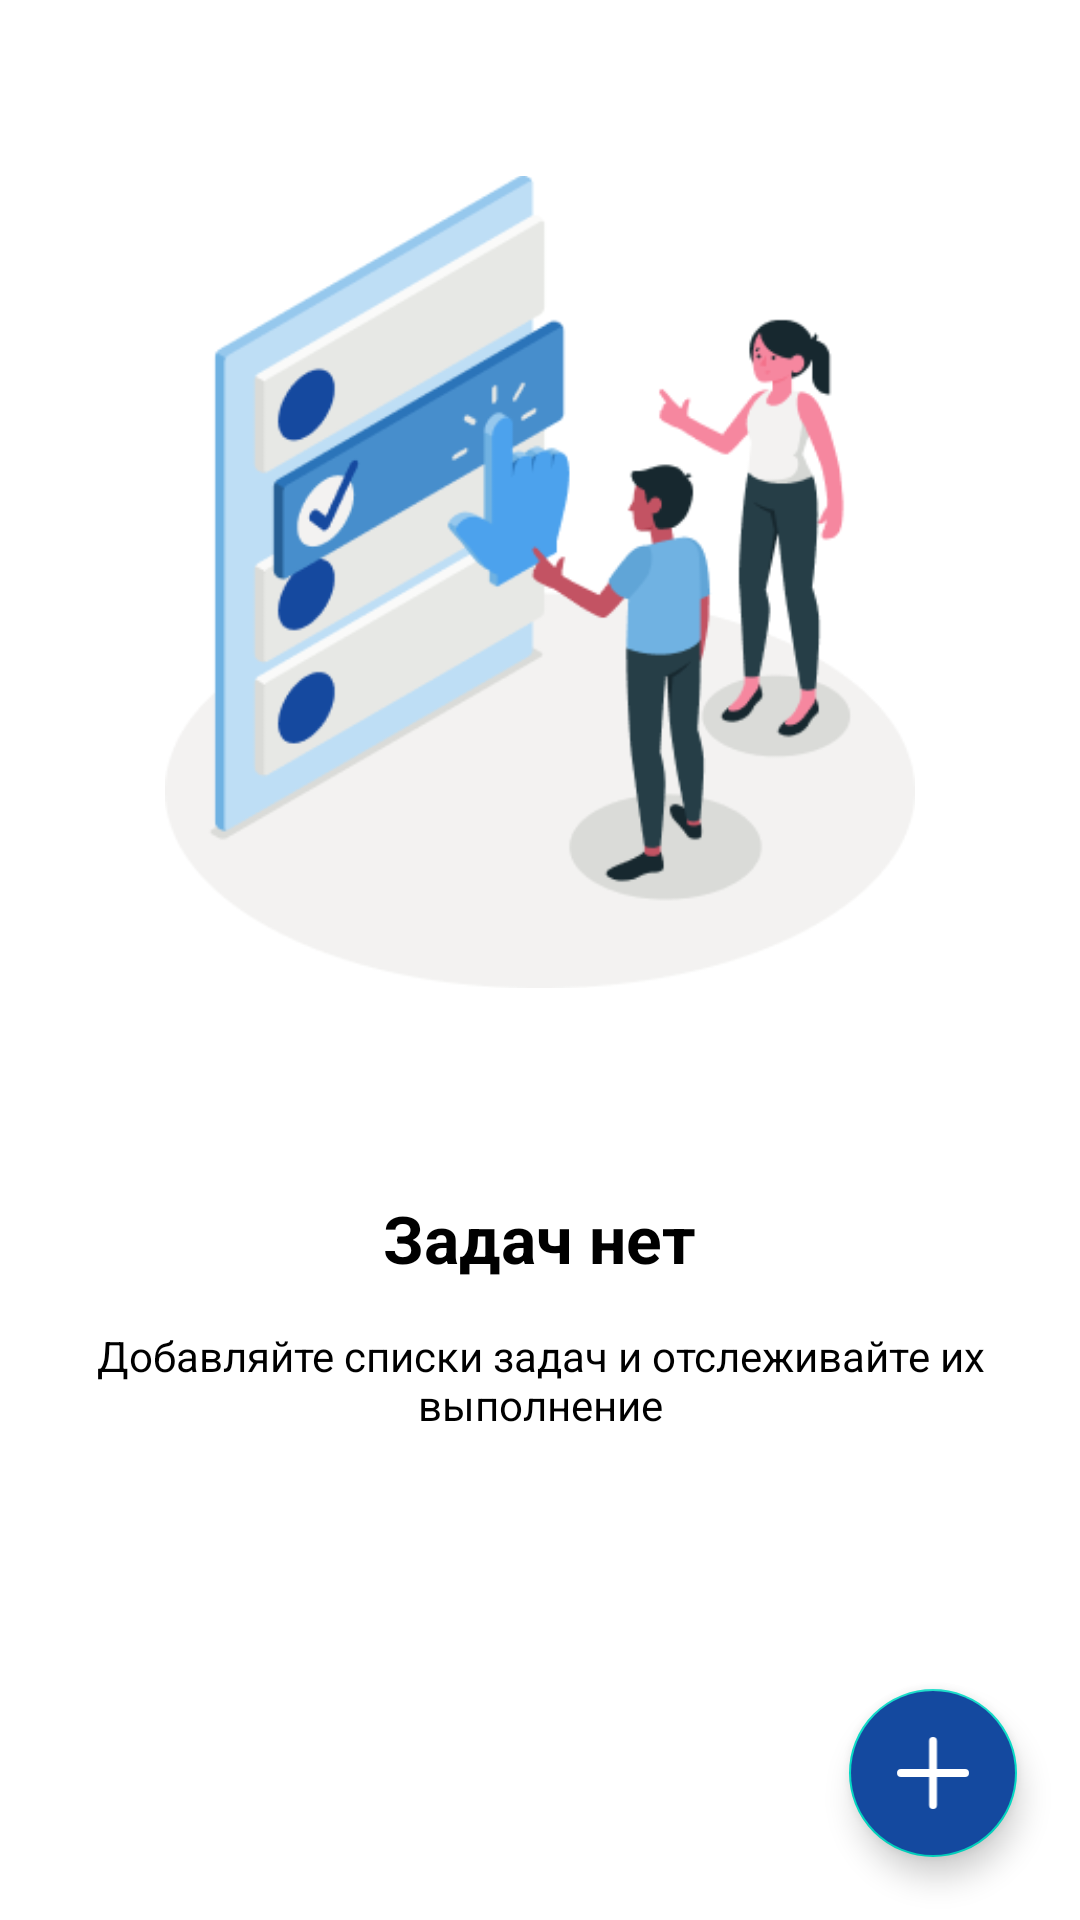

Icon bounding boxes for this 1080x1920 phone screenshot, format (x1,y1,x2,y2):
add main: (849,1689,1017,1857)
